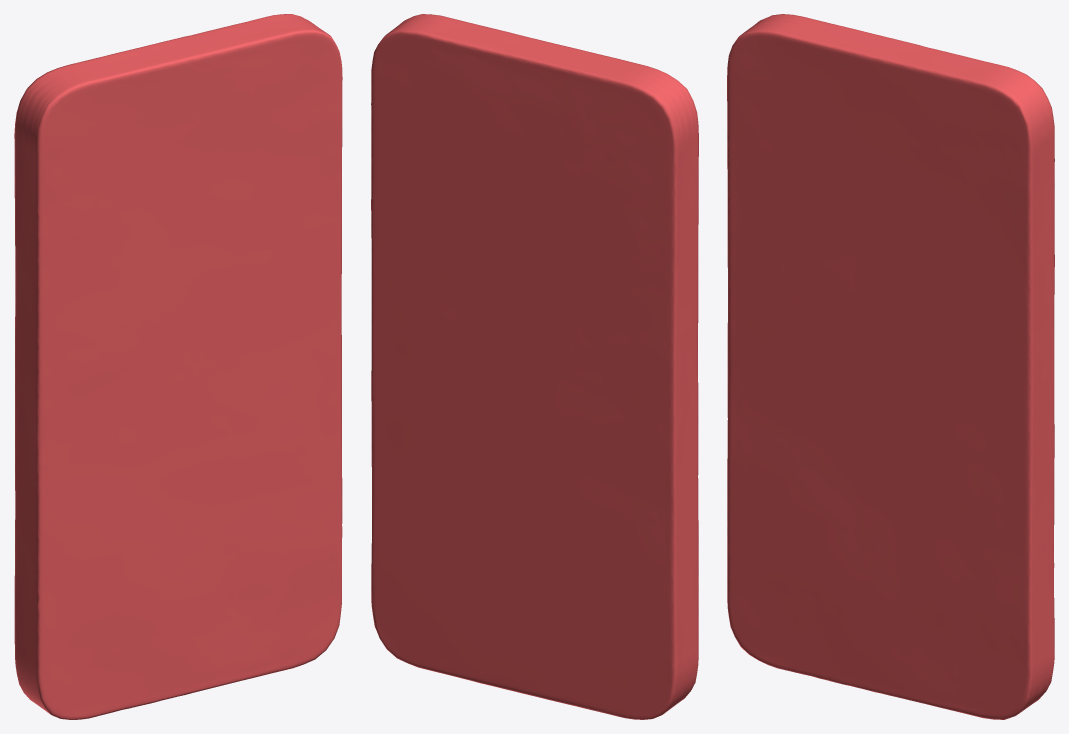
File: mobile_hero.glb
3 views of the same model, side by side, from view 1: azimuth 30°, elevation 25°; view 2: azimuth 150°, elevation 25°; view 3: azimuth 330°, elevation 25° (orthographic).
Parts seen in each view (by area): view 1: Mesh1; view 2: Mesh1; view 3: Mesh1.
Part boxes in pixels (box(x1,y1,x2,y2)): Mesh1: box(14, 14, 342, 719); Mesh1: box(371, 14, 698, 719); Mesh1: box(727, 14, 1054, 719).
Size of the model in its own units: 0.7267 by 1.45 by 0.1031.
